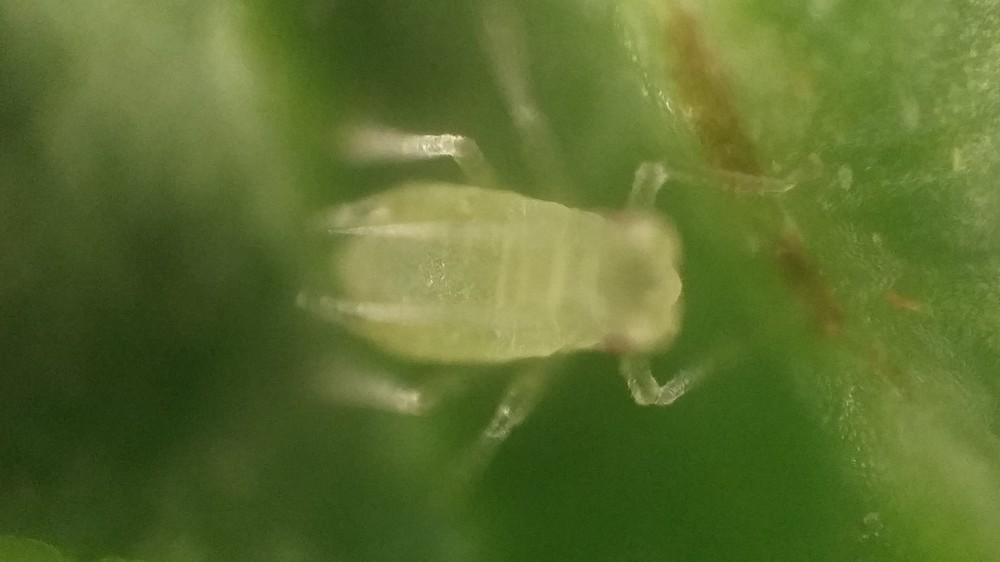Pulgon: (253, 70, 846, 501)
